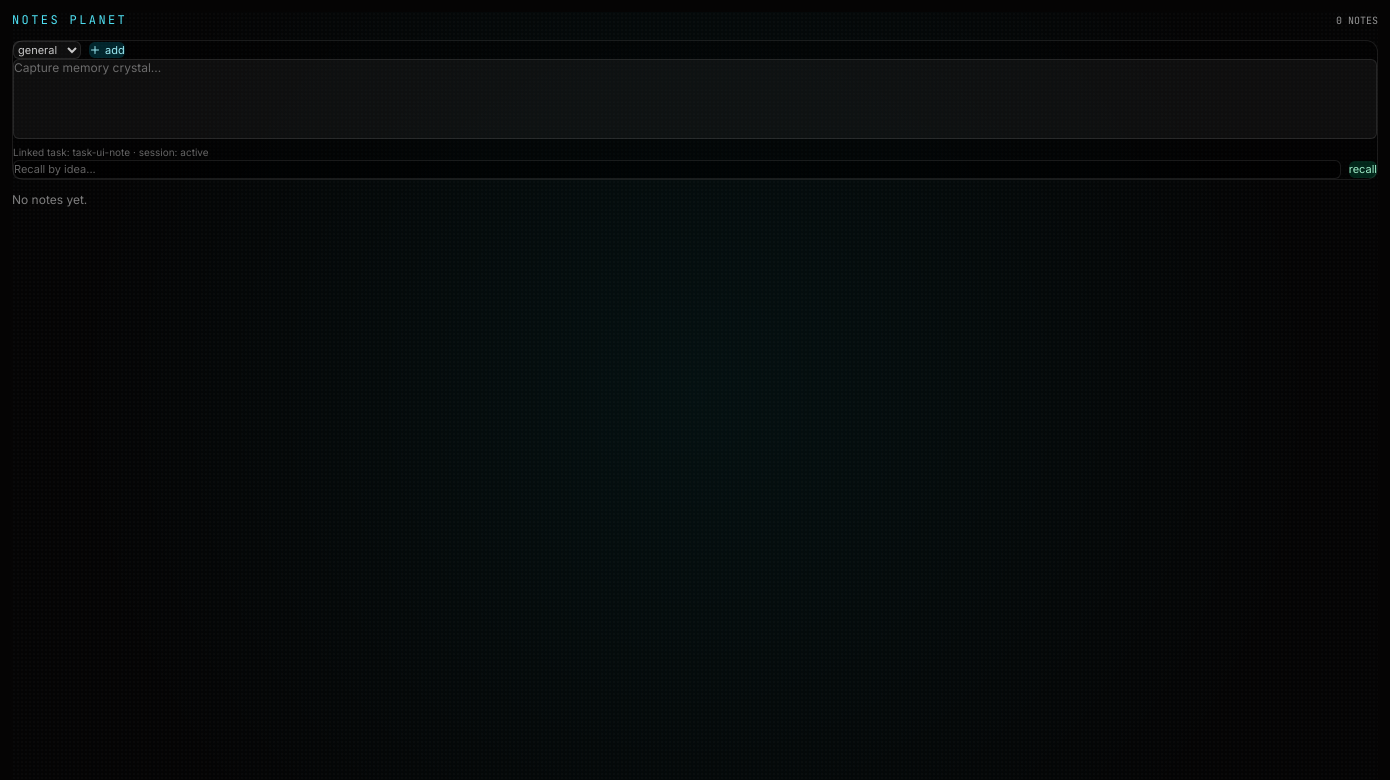
NotesPlanetWidget › creates and renders a new note
The width and height of the screenshot is (1390, 780).
Type "Remember fallback strategy" into the text box with placeholder "Capture memory crystal..." at (695, 99), box x1=13 y1=59 x2=1377 y2=139
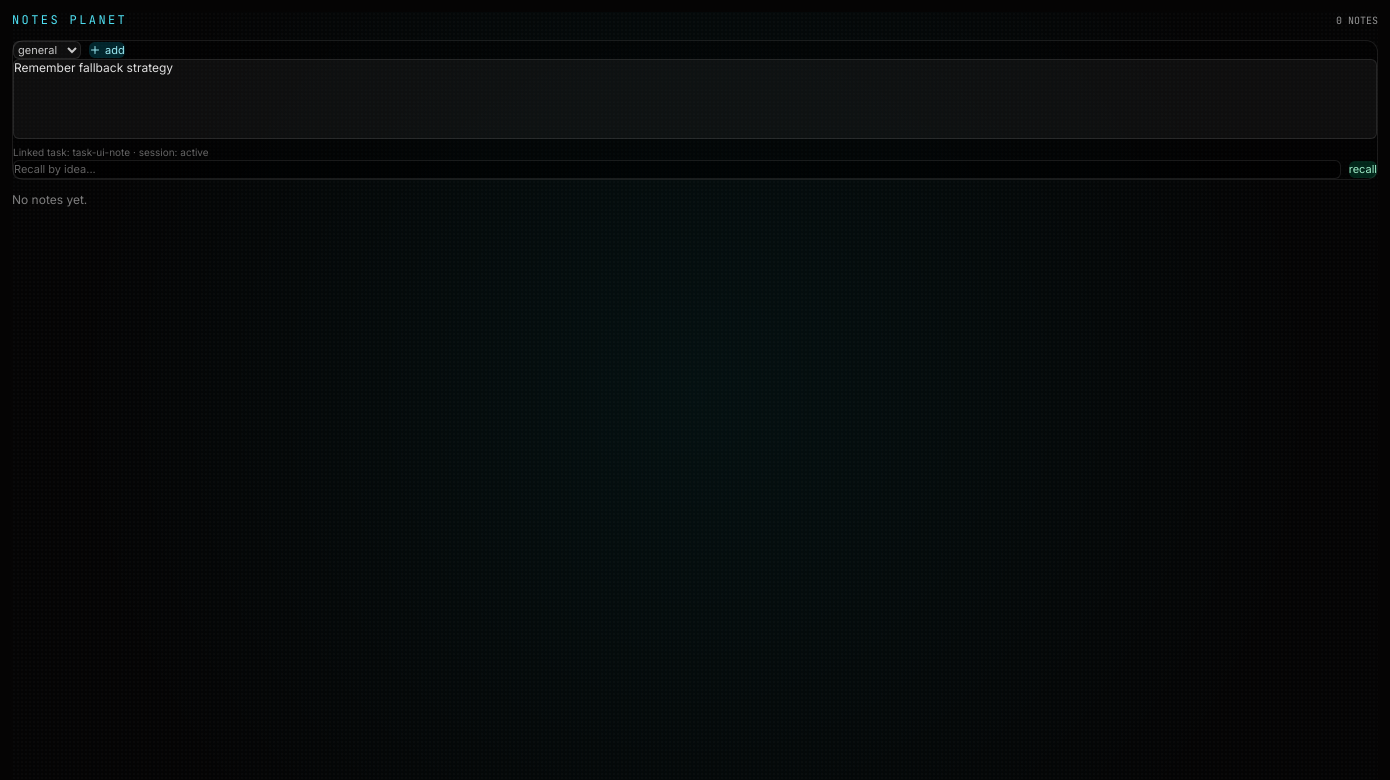
Click the button with aria-label "Add note" at (107, 50), box x1=89 y1=42 x2=125 y2=58
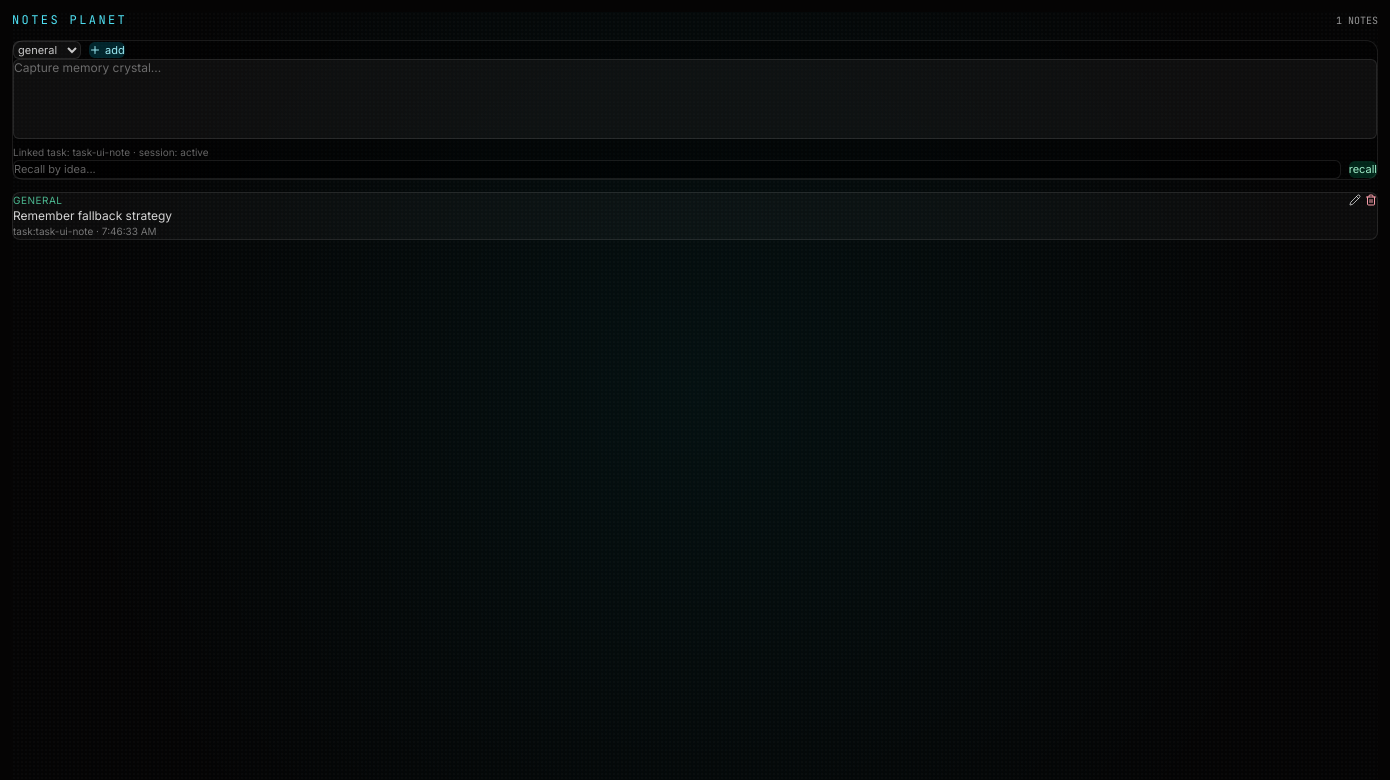
Check: the text "Remember fallback strategy" is shown, box x1=13 y1=208 x2=172 y2=222
Check: the text "task:task-ui-note · 7:46:33 AM" is shown, box x1=13 y1=224 x2=157 y2=236
